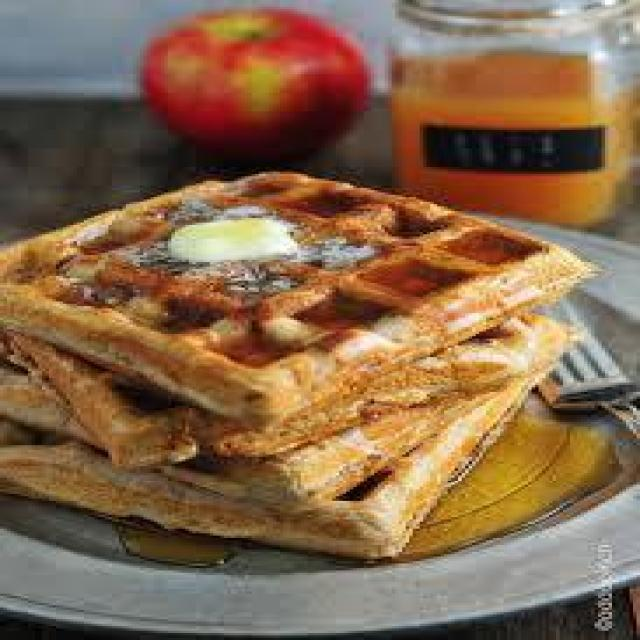maca: (126, 0, 374, 153)
